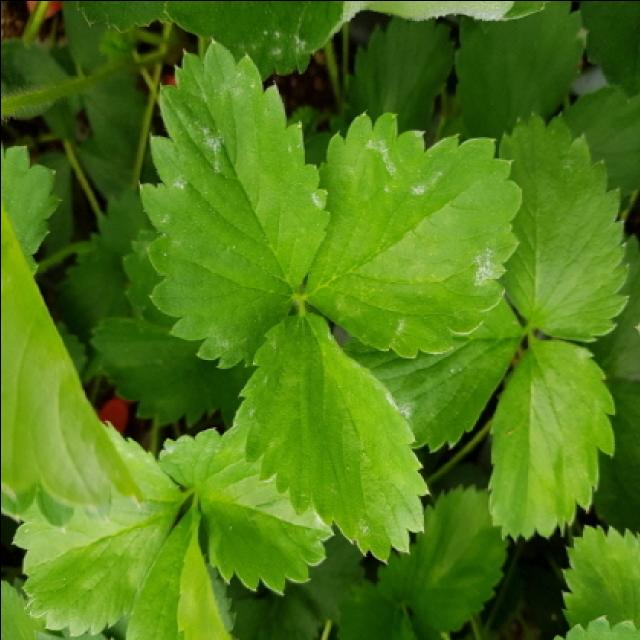Powdery Mildew Leaf: (139, 38, 330, 368), (304, 110, 523, 360), (234, 306, 431, 565), (154, 420, 336, 596)
